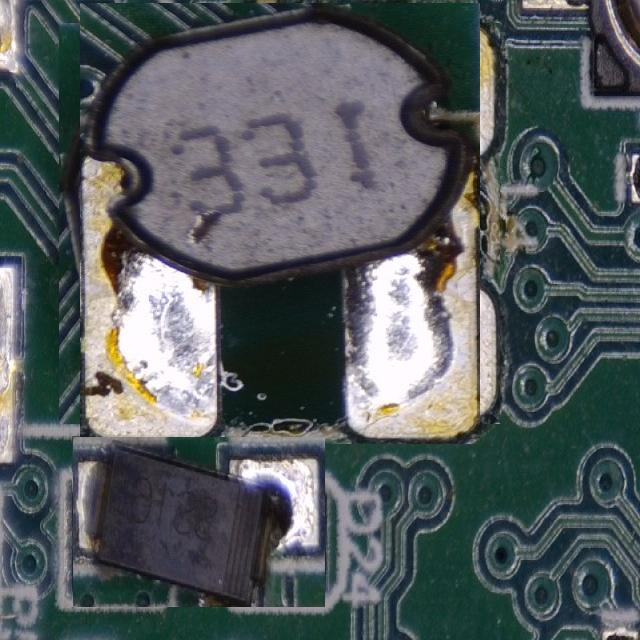Incorrect_installation: (80, 3, 480, 444), (72, 436, 325, 607)
